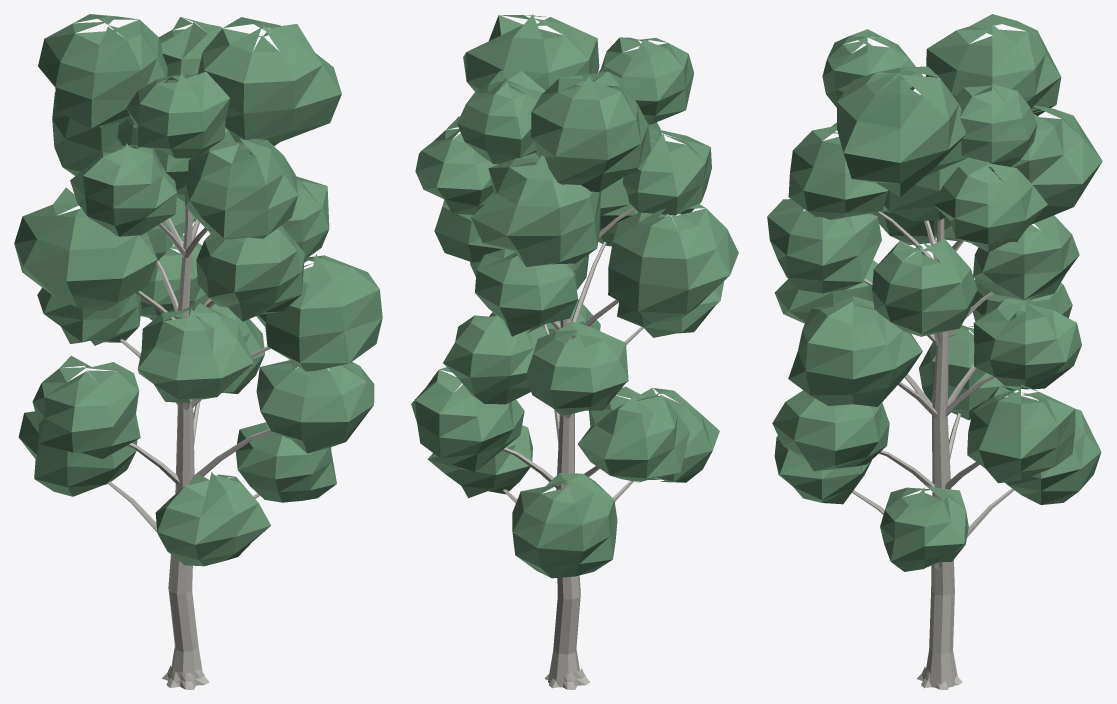
File: hornbeam.glb
3 views of the same model, side by side, from view 1: azimuth 30°, elevation 25°; view 2: azimuth 150°, elevation 25°; view 3: azimuth 270°, elevation 25° (orthographic). The views are drawn at different scales.
Parts seen in each view (by area): view 1: hornbeam-mature; view 2: hornbeam-mature; view 3: hornbeam-mature.
Boxes of the visible parts, bbox=[...] form: hornbeam-mature: bbox=[14, 14, 382, 689]; hornbeam-mature: bbox=[411, 14, 738, 689]; hornbeam-mature: bbox=[767, 14, 1102, 689].
Size of the model in its own units: 8.97 by 18.19 by 8.67.
